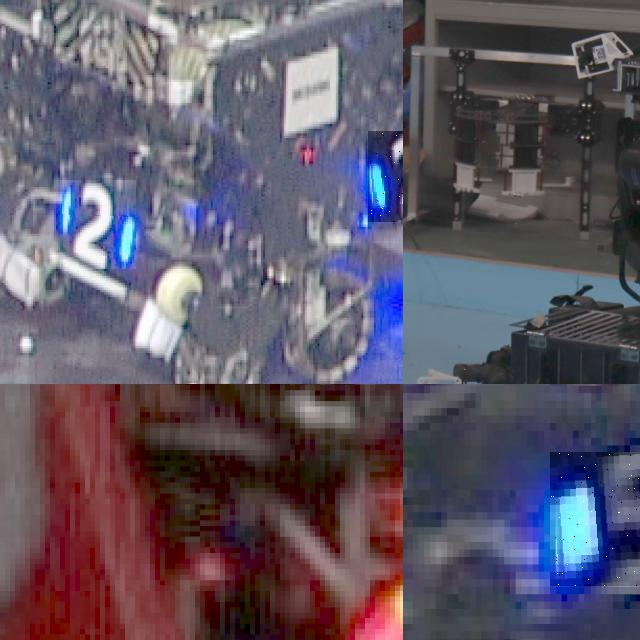B2: (60, 180, 136, 269), (367, 131, 403, 222)
B5: (549, 452, 640, 586)
